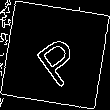P_NW: (25, 24, 85, 86)
